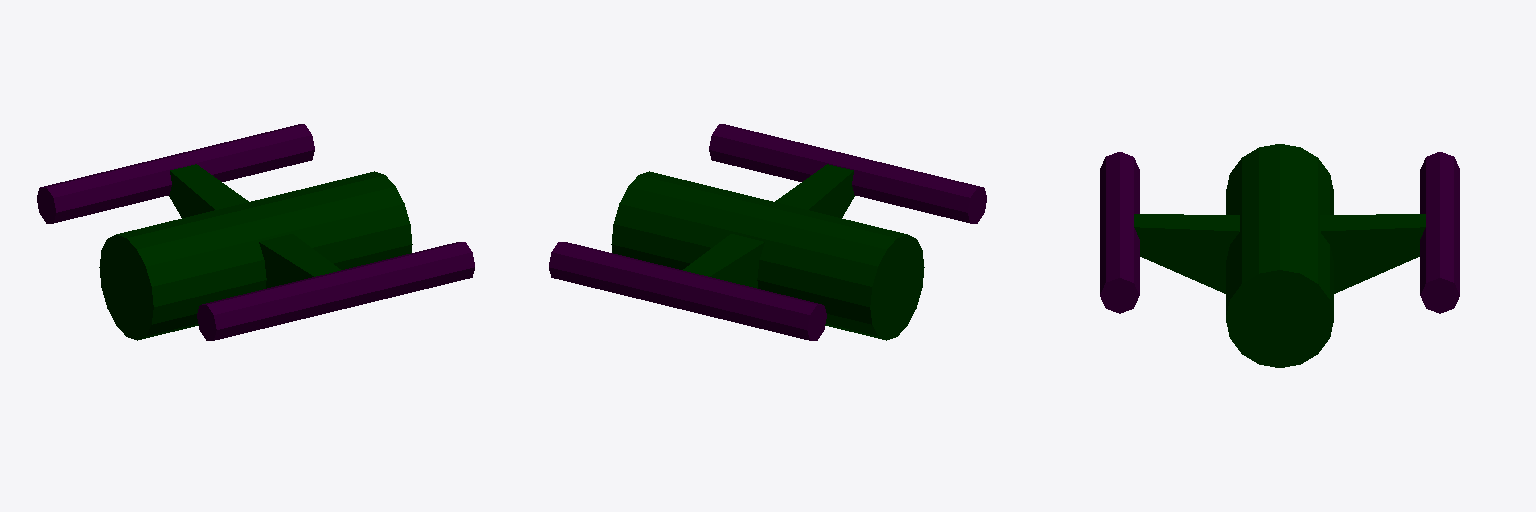
File: lim.obj
3 renders of one model, left to right at view 1: azimuth 30°, elevation 25°; view 2: azimuth 150°, elevation 25°; view 3: azimuth 270°, elevation 25°, orthographic.
Bounding box in the file's own units: 1.1 × 0.4 × 1.33.